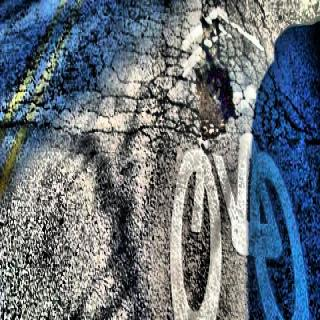alligator-crack: (8, 2, 293, 146)
pothole: (191, 56, 236, 140)
